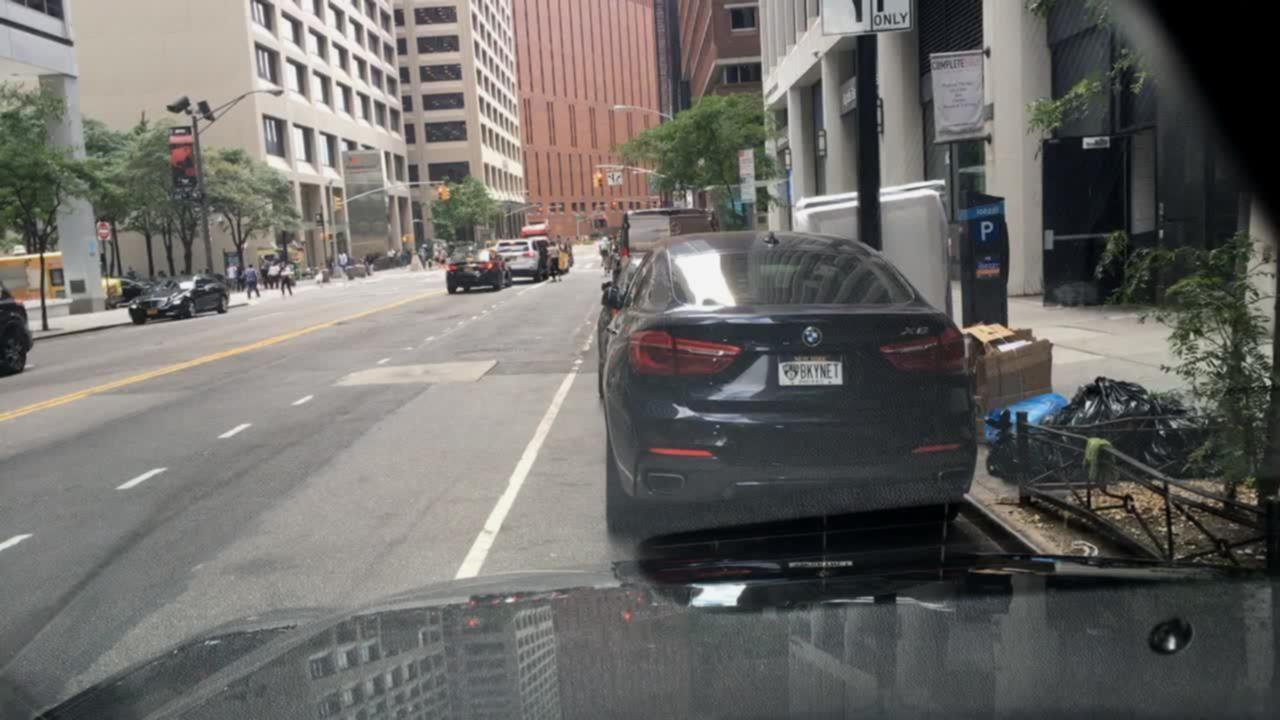bmw: (800, 327, 823, 349)
